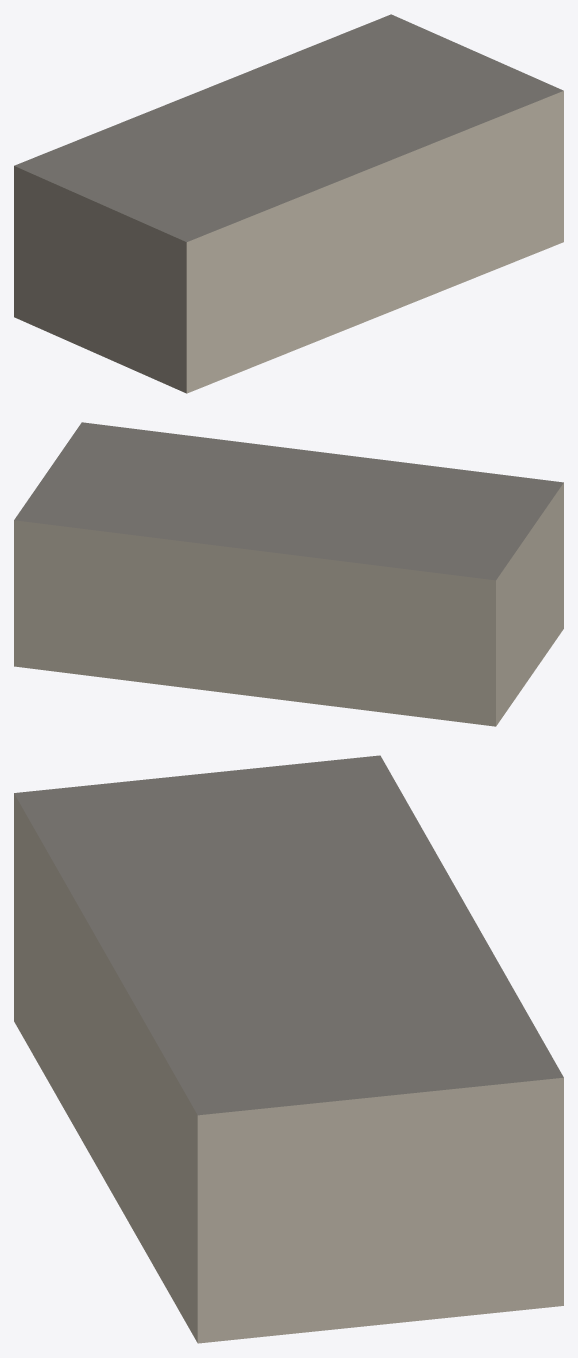
The picture shows the model from 3 angles, top to bottom: view 1: azimuth 30°, elevation 25°; view 2: azimuth 150°, elevation 25°; view 3: azimuth 270°, elevation 25°; orthographic projection. The views are drawn at different scales.
Visible parts, largest first — view 1: HP-w372180495; view 2: HP-w372180495; view 3: HP-w372180495.
Part boxes in pixels (<box>): HP-w372180495: <box>14,14,563,393</box>; HP-w372180495: <box>14,422,563,726</box>; HP-w372180495: <box>14,755,563,1343</box>.
Bounding box in the file's own units: 40.59 × 12 × 26.21.
